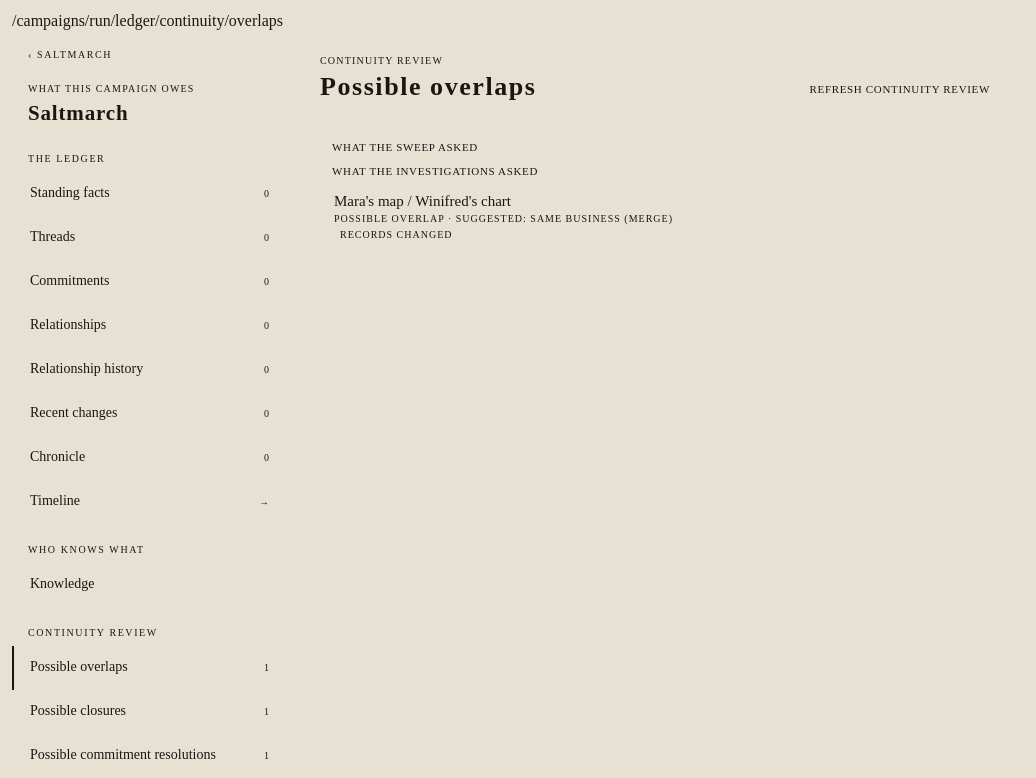
Test: an investigation's captures are listed apart from the sweep's
The width and height of the screenshot is (1036, 778).
Click the button "What the sweep asked". click: [405, 147]
box: x1=320 y1=135 x2=490 y2=159
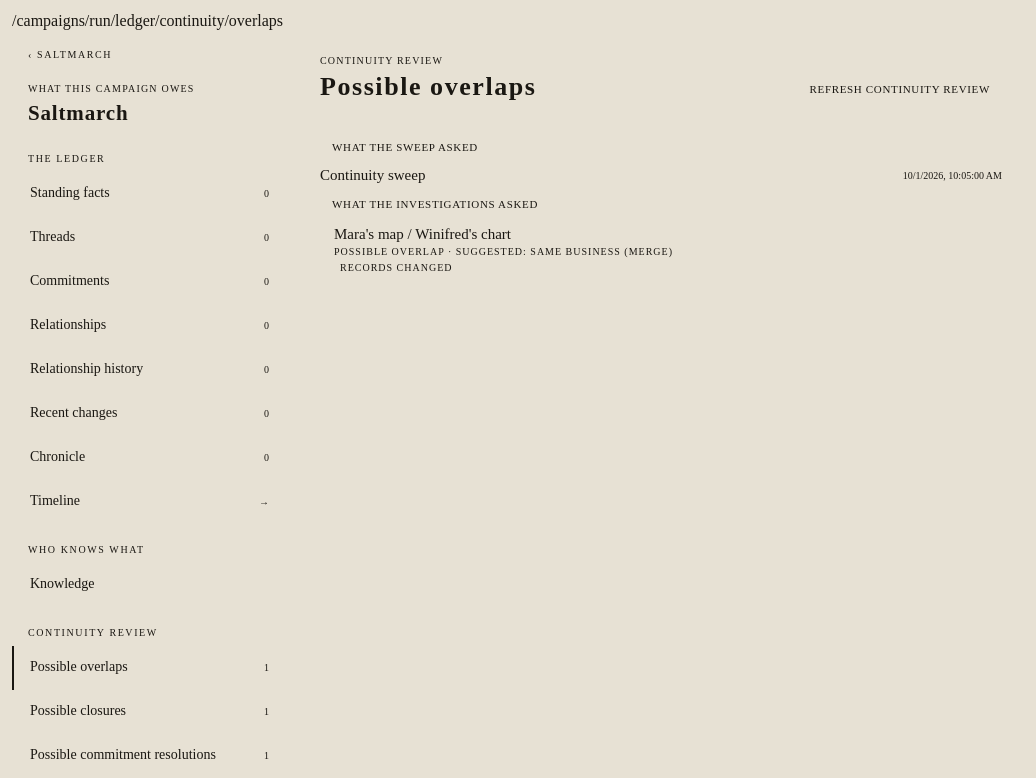
Expected: the button "History question" is not shown
Now the button "Continuity sweep 10/1/2026, 10:05:00 AM" is shown, box x1=320 y1=159 x2=1002 y2=192
Click the button "What the investigations asked". click: [435, 204]
box: x1=320 y1=192 x2=550 y2=216
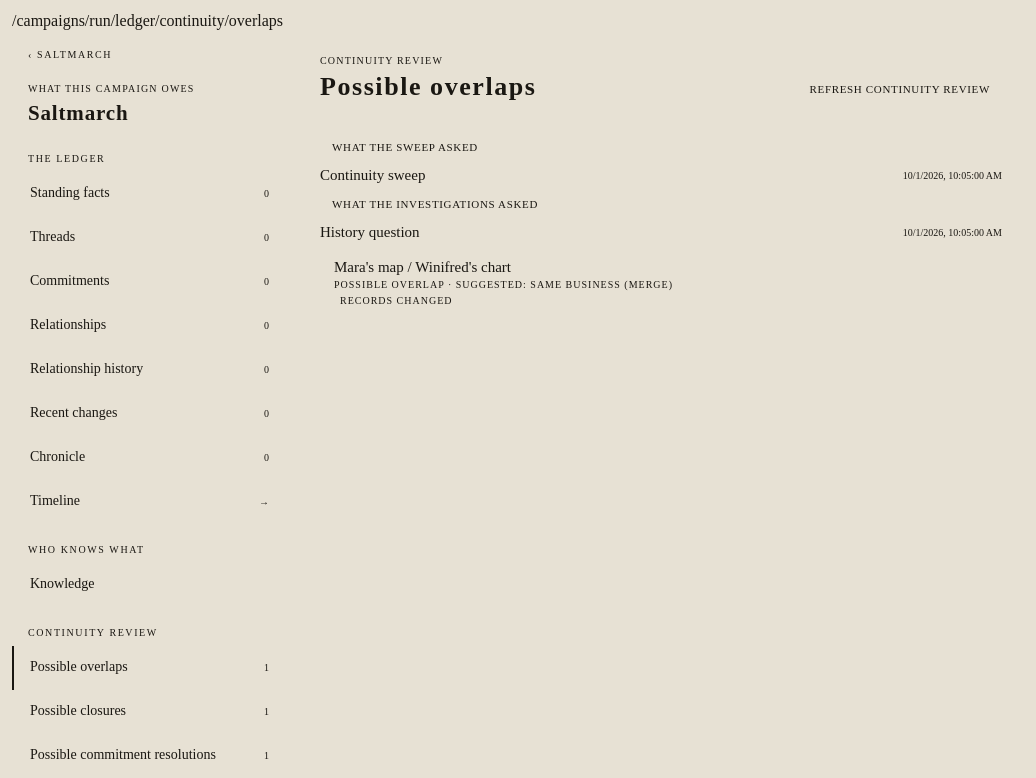
Now the button "History question 10/1/2026, 10:05:00 AM" is shown, box x1=320 y1=216 x2=1002 y2=249
